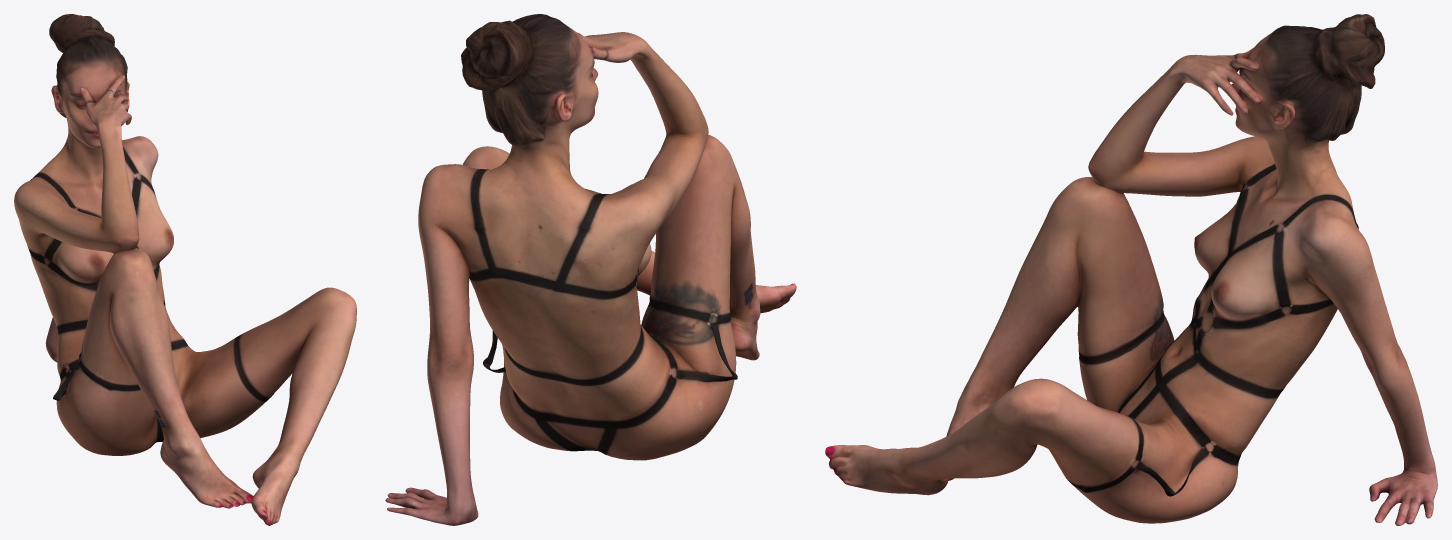
The picture shows the model from 3 angles, left to right: view 1: azimuth 30°, elevation 25°; view 2: azimuth 150°, elevation 25°; view 3: azimuth 270°, elevation 25°; orthographic projection. The views are drawn at different scales.
Visible parts, largest first — view 1: kateNst_044YFVG_(1)_1; view 2: kateNst_044YFVG_(1)_1; view 3: kateNst_044YFVG_(1)_1.
Part boxes in pixels (x1=…): kateNst_044YFVG_(1)_1: x1=14, y1=14, x2=356, y2=525; kateNst_044YFVG_(1)_1: x1=385, y1=14, x2=796, y2=525; kateNst_044YFVG_(1)_1: x1=825, y1=14, x2=1437, y2=525.
Bounding box in the file's own units: 0.6424 × 0.8837 × 1.05.
Materials: 1 (1 with a texture image).
